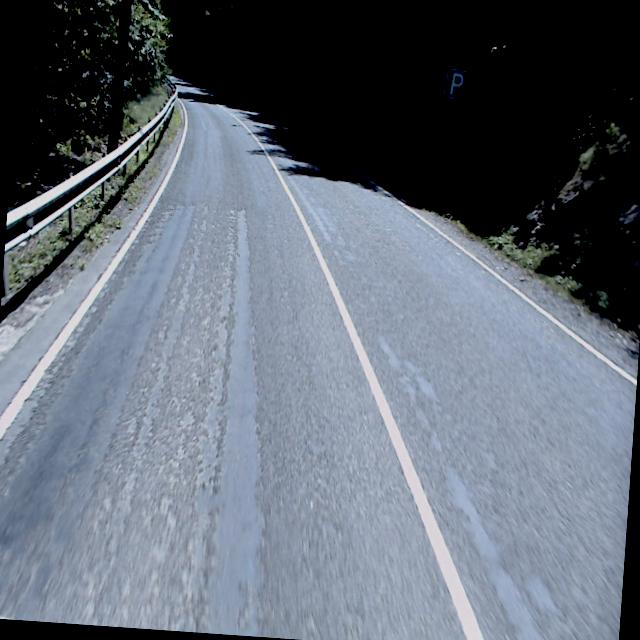road: (0, 76, 636, 640)
